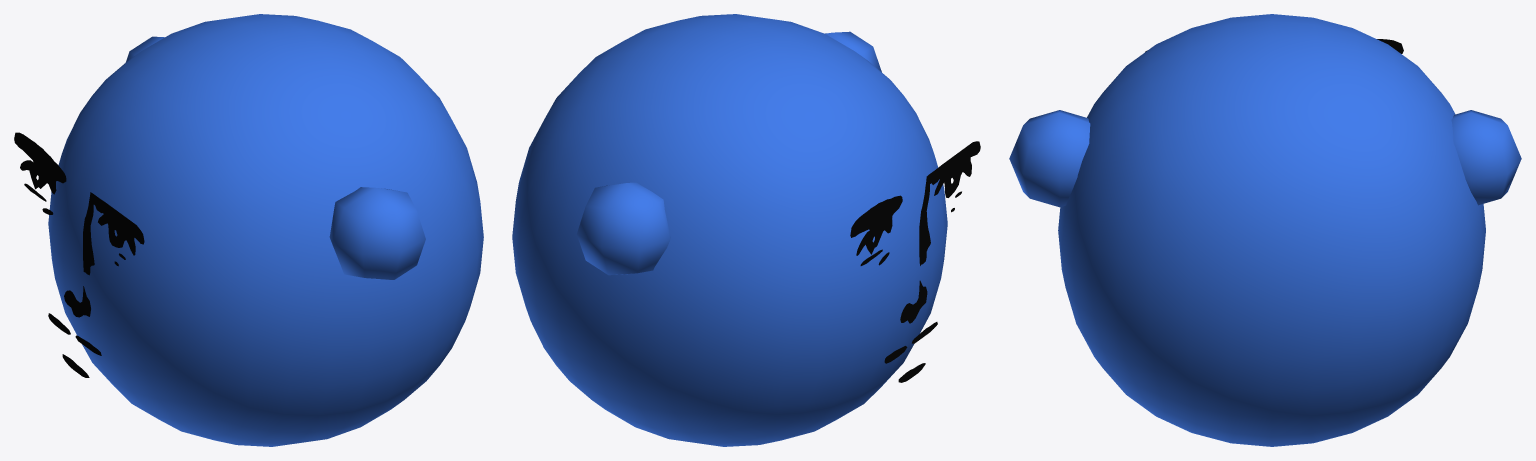
File: JAWBREAKER2HP.fbx
3 views of the same model, side by side, from view 1: azimuth 30°, elevation 25°; view 2: azimuth 150°, elevation 25°; view 3: azimuth 270°, elevation 25° (orthographic).
Parts seen in each view (by area): view 1: bhead, bnub1, bface; view 2: bhead, bnub2, bface, bnub1; view 3: bhead, bnub1, bnub2.
Part boxes in pixels (box(x1,y1,x2,y2)): bhead: box(48, 14, 483, 446); bnub1: box(329, 187, 425, 279); bface: box(14, 132, 144, 377); bhead: box(512, 14, 947, 446); bnub2: box(576, 182, 670, 275); bface: box(850, 141, 980, 382); bnub1: box(825, 31, 881, 72); bhead: box(1058, 14, 1485, 446); bnub1: box(1009, 110, 1090, 207); bnub2: box(1451, 110, 1521, 205).
Bounding box in the file's own units: 121 × 121 × 145.
